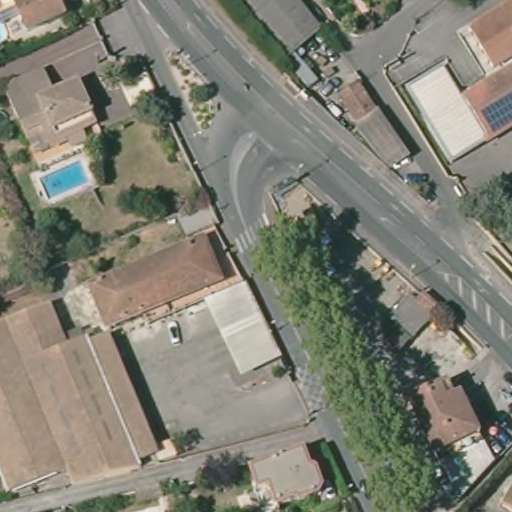pool: (36, 155, 93, 200)
